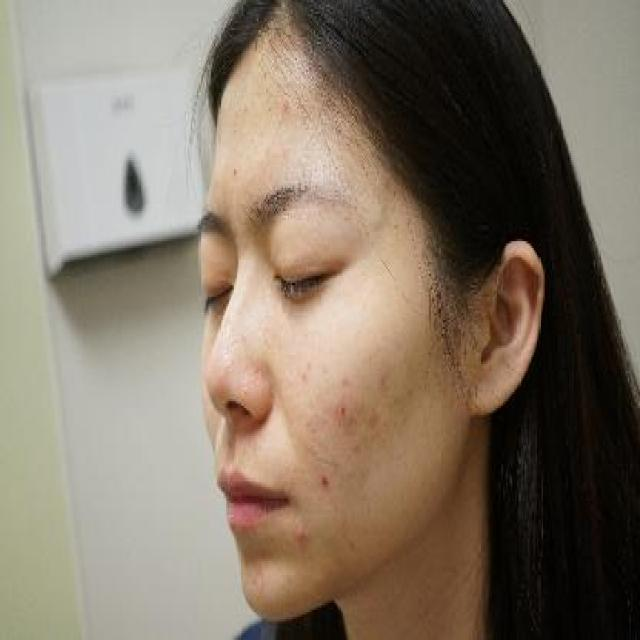dark spot: (316, 464, 336, 501), (277, 92, 297, 120), (334, 399, 352, 424)
papules: (292, 522, 312, 550)
